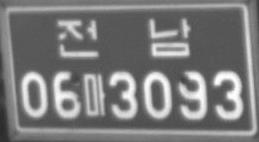0: (143, 70, 173, 120), (20, 70, 48, 120)
3: (212, 69, 244, 121), (108, 69, 138, 120)
6: (51, 70, 82, 119)
9: (177, 69, 207, 121)
마: (82, 72, 106, 117)
전남_D: (56, 17, 191, 59)
